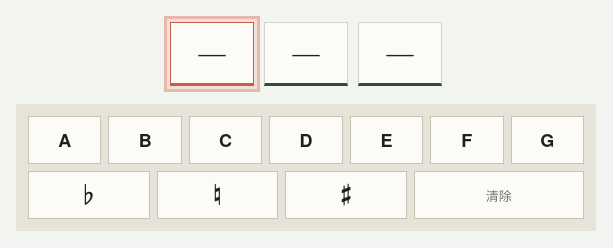
NoteKeyboard › fills independent slots and applies an accidental to the active note
The width and height of the screenshot is (613, 248).
Step 1. Click the button "C" → click(226, 140), box [189,116,262,164]
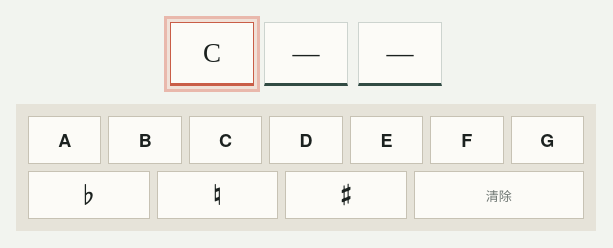
Step 2. Click the button named "第 2 个音" → click(306, 54), box [264,22,348,86]
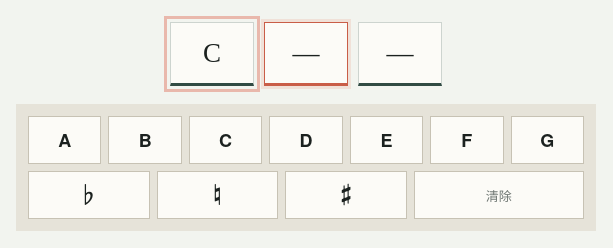
Step 3. Click the button "F" → click(467, 140), box [430,116,504,164]
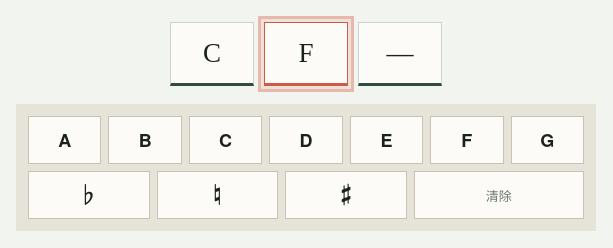
Step 4. Click the button named "升号" → click(346, 195), box [285,171,407,219]
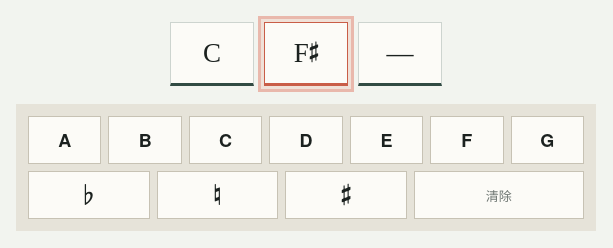
Result: the button named "第 1 个音：C" reads "C" at [170,22,254,86]
Result: the button named "第 2 个音：F♯" is shown at [264,22,348,86]
